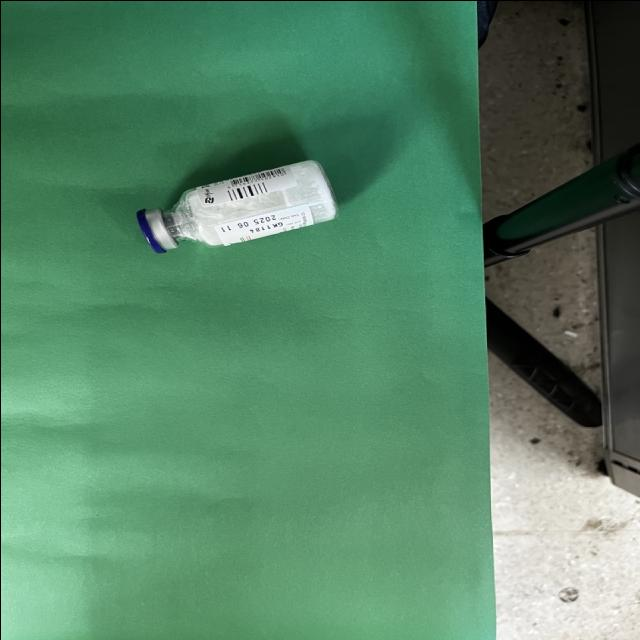Vials: (136, 159, 337, 252)
